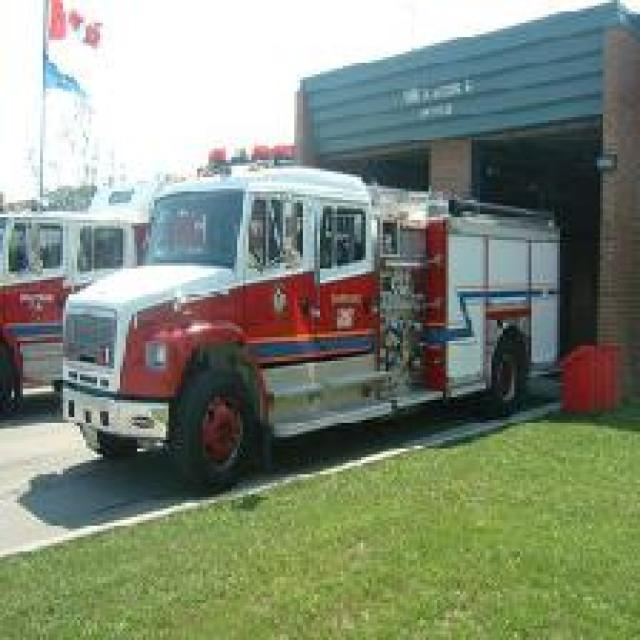Fire-truck: (57, 140, 563, 489)
